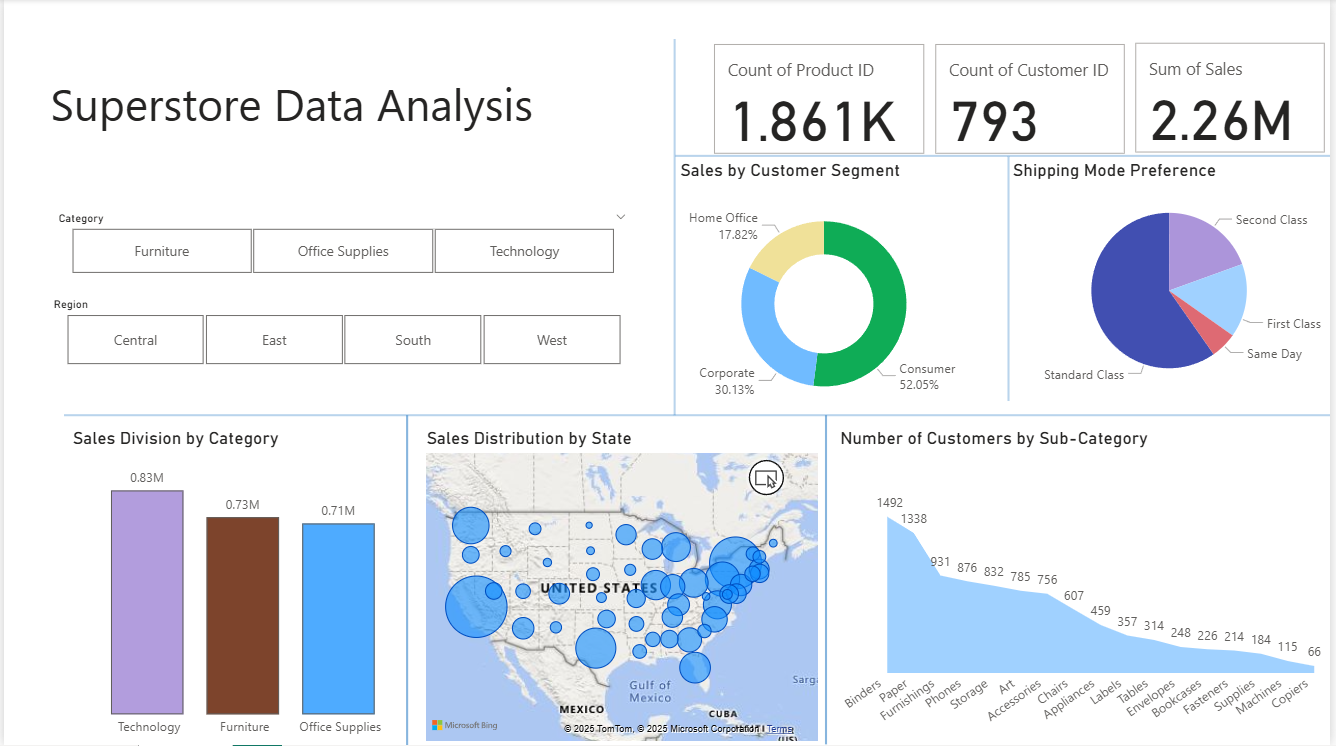

What the dashboard file says about the page in this screenshot:
{"tool":"powerbi","page":{"name":"Page 1","canvas":[1280,720],"ordinal":0},"visuals":[{"type":"columnChart","title":"Sales Division by Category","fields":{"Category":["train.Category"],"Y":["Sum(train.Sales)"],"Series":["train.Category"]},"box":[61.1,413.3,342.4,306.9],"z":0},{"type":"donutChart","title":"Sales by Customer Segment","fields":{"Category":["train.Segment"],"Y":["CountNonNull(train.Segment)"]},"box":[648.1,154.1,287.4,259.2],"z":1000},{"type":"pieChart","title":"Shipping Mode Preference","fields":{"Y":["CountNonNull(train.Ship Mode)"],"Category":["train.Ship Mode"]},"box":[968.5,154.1,311.8,233.6],"z":2000},{"type":"map","title":"Sales Distribution by State","fields":{"Category":["train.State"],"Size":["Sum(train.Sales)"]},"box":[403.5,413.3,387.6,306.9],"z":3000},{"type":"areaChart","title":"Number of Customers by Sub-Category","fields":{"Category":["train.Sub-Category"],"Y":["CountNonNull(train.Customer ID)"]},"box":[802.2,413.3,478.1,306.9],"z":4000},{"type":"cardVisual","fields":{"Data":["Sum(train.Sales)"]},"box":[1087.1,37.9,193.2,116.2],"z":5000},{"type":"cardVisual","fields":{"Data":["Count(train.Customer ID)"]},"box":[893.9,39.1,193.2,116.2],"z":6000},{"type":"cardVisual","fields":{"Data":["Count(train.Product ID)"]},"box":[679.9,39.1,214,116.2],"z":7000},{"type":"slicer","fields":{"Values":["train.Region"]},"box":[35,283.5,583.9,76],"z":8000},{"type":"slicer","fields":{"Values":["train.Category"]},"box":[39.8,200.3,573.1,71.2],"z":9000},{"type":"shape","box":[953.8,151.6,30.6,236],"z":10000},{"type":"shape","box":[777.7,402.3,30.6,317.9],"z":11000},{"type":"shape","box":[777.7,402.1,30.6,317.9],"z":12000},{"type":"shape","box":[374,401.7,30.2,318.5],"z":13000},{"type":"shape","box":[374,401.5,30.2,318.5],"z":13001},{"type":"shape","box":[647.9,138.7,632.2,25.3],"z":13002},{"type":"shape","box":[632.2,38.6,30.2,363.1],"z":13003},{"type":"textbox","box":[39.8,66.4,573.1,107.4],"z":13004},{"type":"shape","box":[57.9,395.7,1222.1,12.1],"z":13005}]}

Visuals, with their boxes in screenshot pixels (x1, y1, x2, y2), scaled from the page's 1280x720 canvas onto the 1336x746 screenshot:
"Sales Division by Category" columnChart: 64:428:421:745
"Sales by Customer Segment" donutChart: 676:160:976:428
"Shipping Mode Preference" pieChart: 1011:160:1335:402
"Sales Distribution by State" map: 421:428:826:745
"Number of Customers by Sub-Category" areaChart: 837:428:1335:745
cardVisual - Sum(train.Sales): 1135:39:1335:160
cardVisual - Count(train.Customer ID): 933:41:1135:161
cardVisual - Count(train.Product ID): 710:41:933:161
slicer - train.Region: 37:294:646:372
slicer - train.Category: 42:208:640:281
shape: 996:157:1027:402
shape: 812:417:844:745
shape: 812:417:844:745
shape: 390:416:422:745
shape: 390:416:422:745
shape: 676:144:1335:170
shape: 660:40:691:416
textbox: 42:69:640:180
shape: 60:410:1335:423
